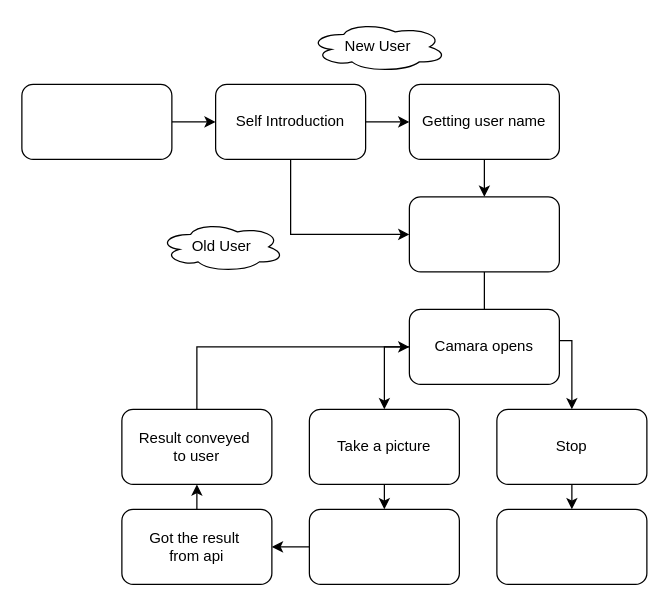
This 669x606 diagram has some shape labels left out. Here are the shapes that lost their labels. From the top down, the box of each, then its label:
(21, 83, 172, 159): Drishti App
(408, 196, 559, 272): Start command to start the app
(308, 508, 459, 584): Image sent to backend
(496, 508, 647, 584): Closes the app
